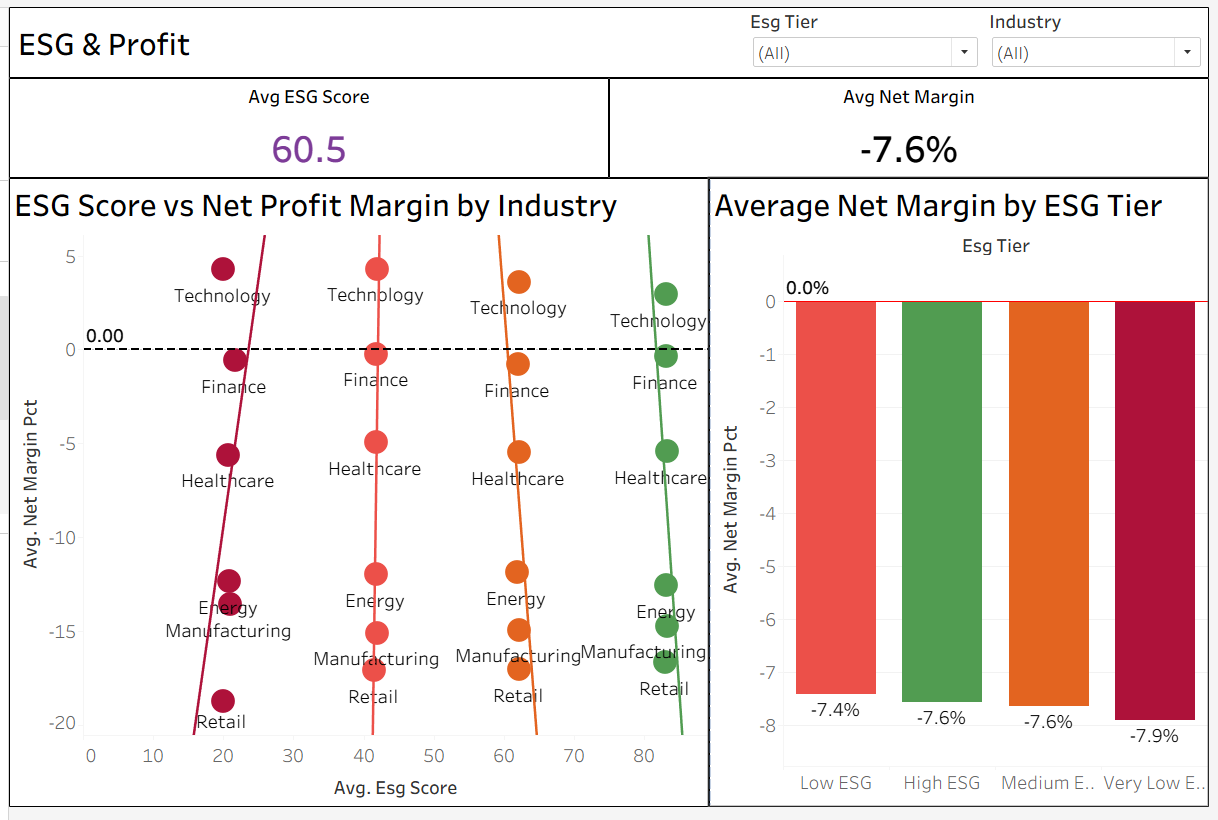

What the dashboard file says about the page in this screenshot:
{"tool":"tableau","page":{"name":"ESG & Profit","canvas":[1200,800],"ordinal":0},"visuals":[{"type":"text","box":[1,1,736,69]},{"type":"filter","title":"ESG Tier vs Margin","param":"[federated.15gj2190fk1kot1fgog9l0c8op5l].[none:esg_tier:nk]","box":[737,1,239,69]},{"type":"filter","title":"ESG Tier vs Margin","param":"[federated.15gj2190fk1kot1fgog9l0c8op5l].[none:industry:nk]","box":[976,1,223,69]},{"type":"worksheet","title":"KPI – Avg ESG Score","mark":"Automatic","box":[0,71,600,100]},{"type":"worksheet","title":"KPI – Avg Net Margin","mark":"Automatic","box":[600,71,600,100]},{"type":"worksheet","title":"ESG vs Net Margin","mark":"Circle","rows":["net_margin_pct"],"cols":["esg_score"],"box":[0,171,700,629]},{"type":"worksheet","title":"ESG Tier vs Margin","mark":"Bar","rows":["net_margin_pct"],"cols":["esg_tier"],"box":[700,171,500,629]}]}

Visuals, with their boxes in screenshot pixels (x1, y1, x2, y2), scaled from the page's 1200x800 canvas onto the 1218x820 screenshot:
text: l=1, t=1, r=748, b=72
"ESG Tier vs Margin" filter: l=748, t=1, r=991, b=72
"ESG Tier vs Margin" filter: l=991, t=1, r=1217, b=72
"KPI – Avg ESG Score" worksheet: l=0, t=73, r=609, b=175
"KPI – Avg Net Margin" worksheet: l=609, t=73, r=1217, b=175
"ESG vs Net Margin" worksheet (Circle marks): l=0, t=175, r=710, b=819
"ESG Tier vs Margin" worksheet (Bar marks): l=710, t=175, r=1217, b=819
